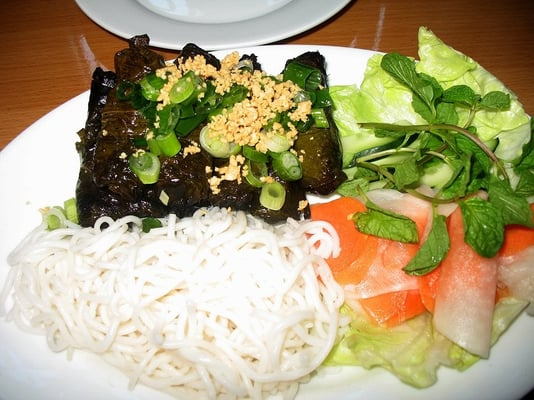curry: (4, 0, 533, 400)
pizza: (308, 194, 424, 332), (359, 288, 426, 329), (496, 225, 534, 261)
